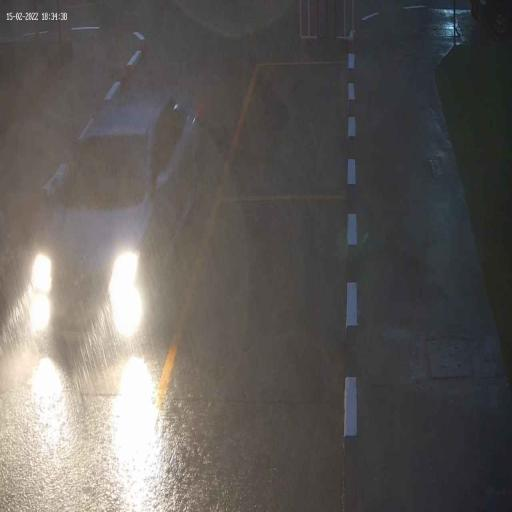car: (29, 92, 205, 352)
